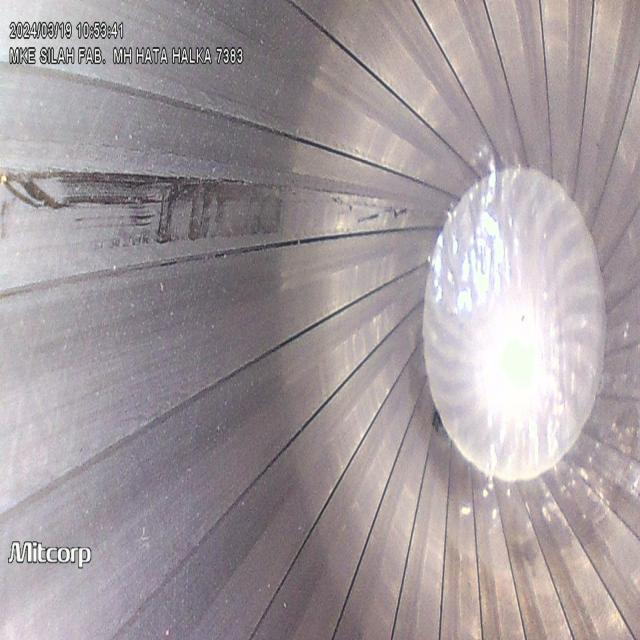hata_8.2: (6, 145, 416, 288)
